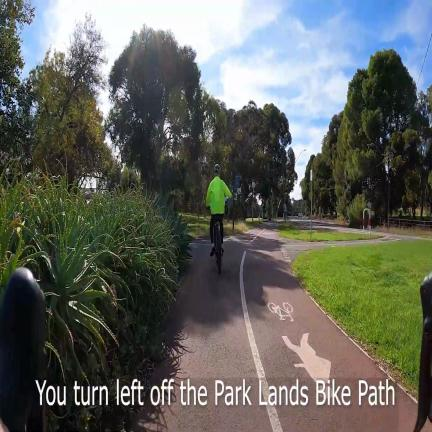Bike_Lane: (136, 224, 417, 432)
